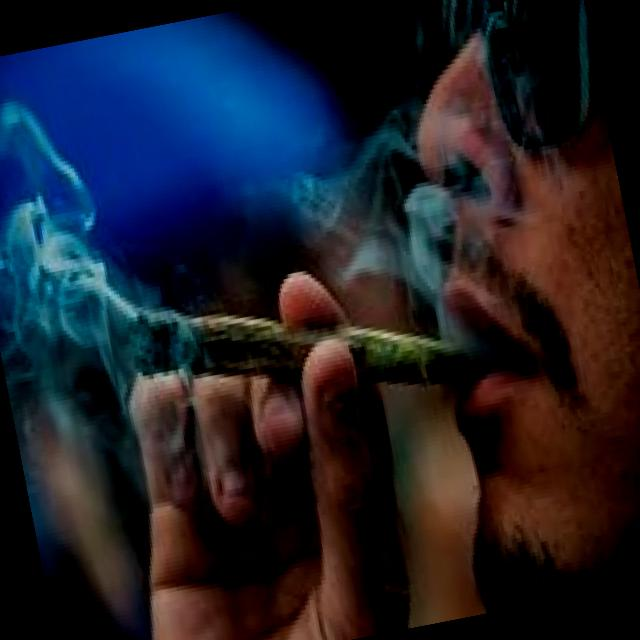smoke: (116, 249, 486, 450)
